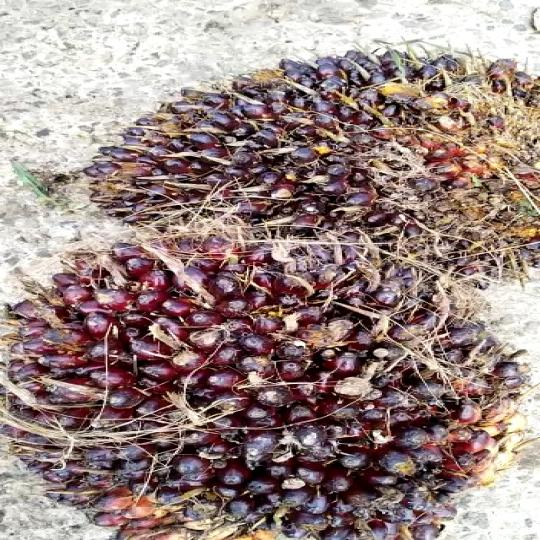kurang masak: (0, 220, 540, 540), (93, 50, 540, 287)
